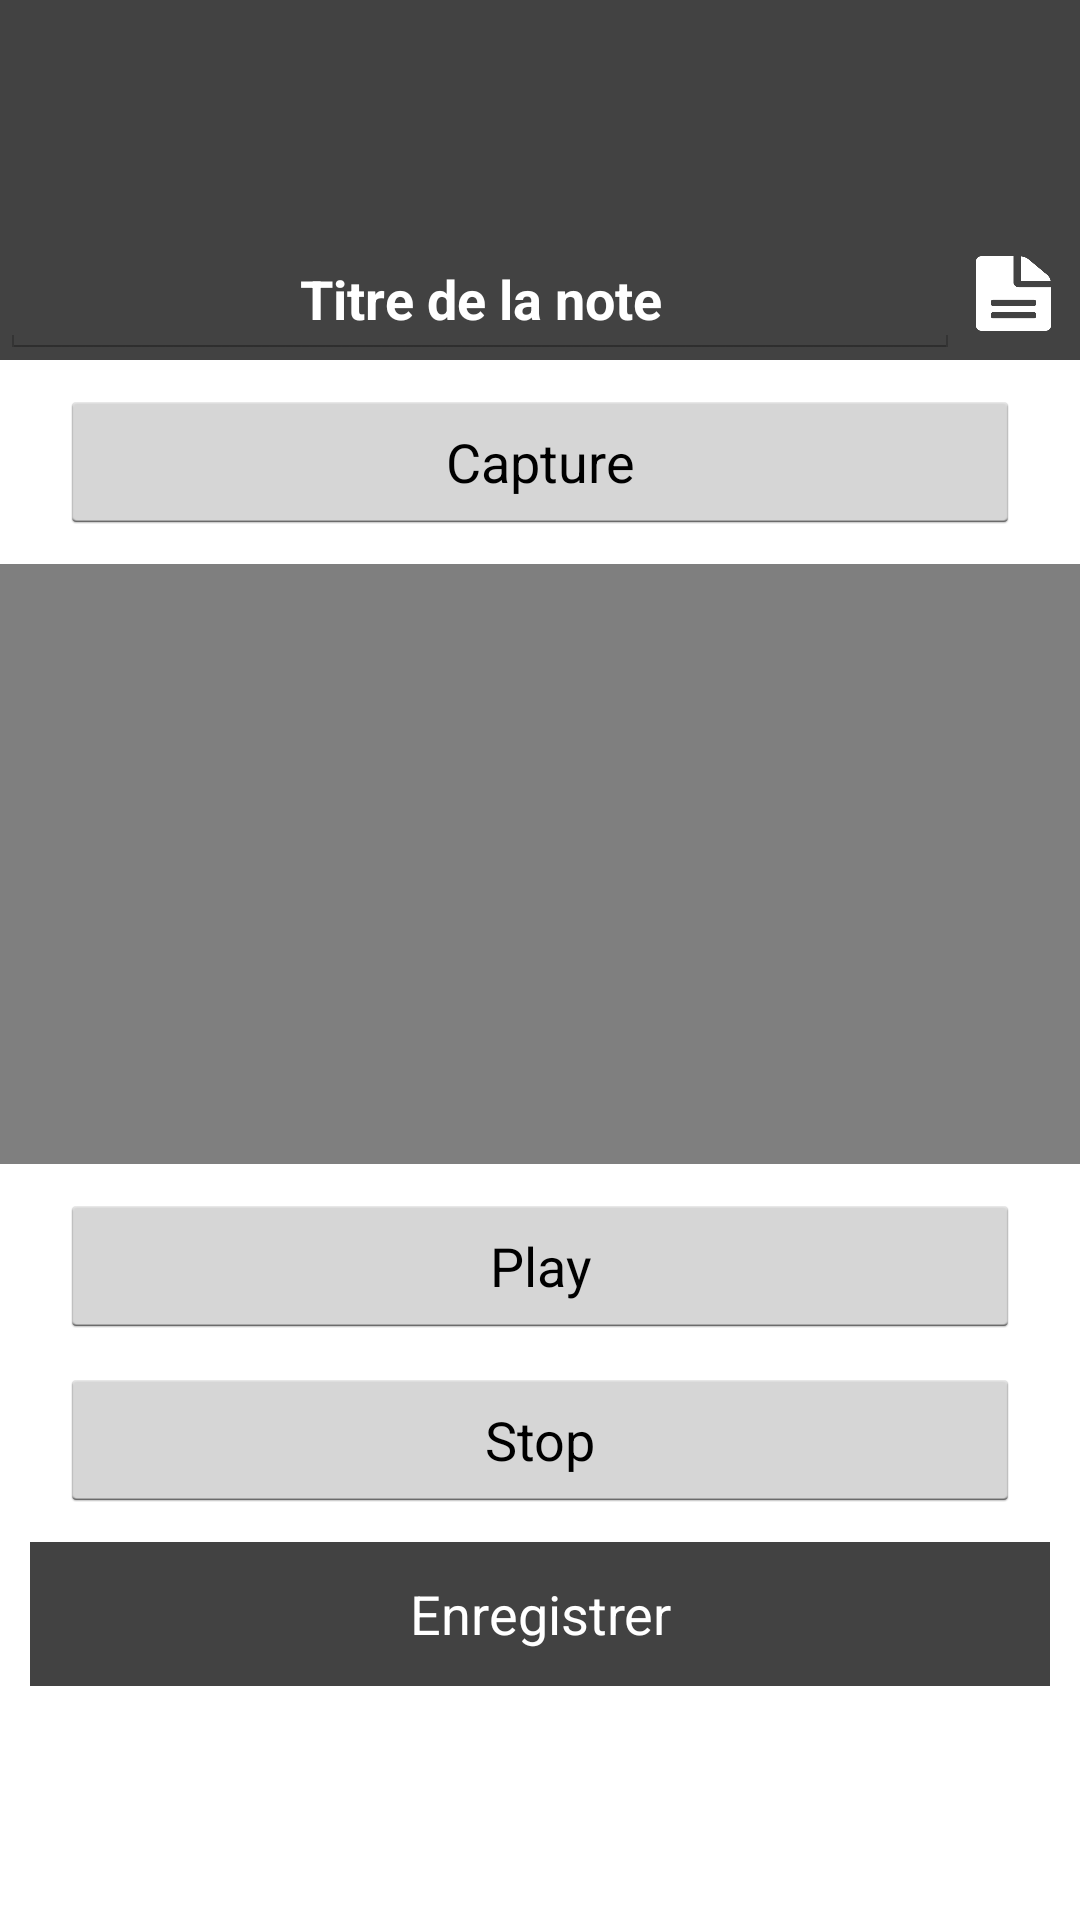

Point at icon controls on the screen. Image size 1080x1920, points as (x=x, y=y).
text: (x=1013, y=293)
